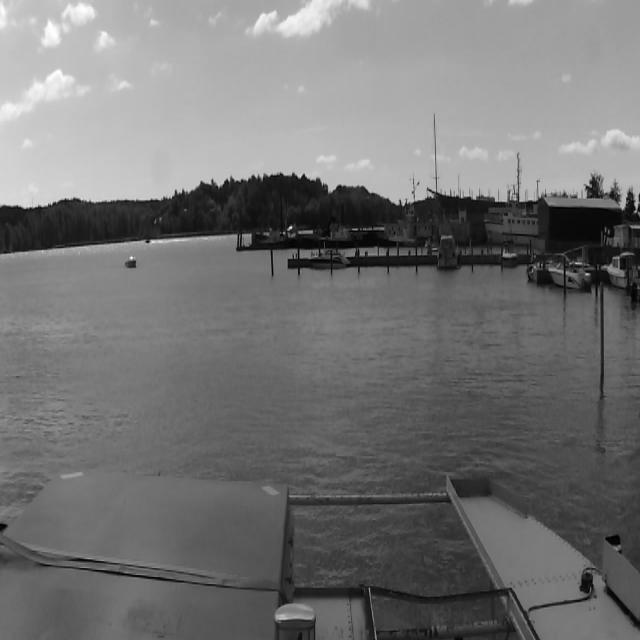buoy: (598, 282, 606, 388)
ship: (486, 197, 538, 242), (550, 250, 592, 292), (606, 246, 637, 289), (317, 225, 370, 249), (437, 235, 458, 273), (312, 248, 350, 268), (386, 230, 418, 248), (125, 256, 136, 268)
